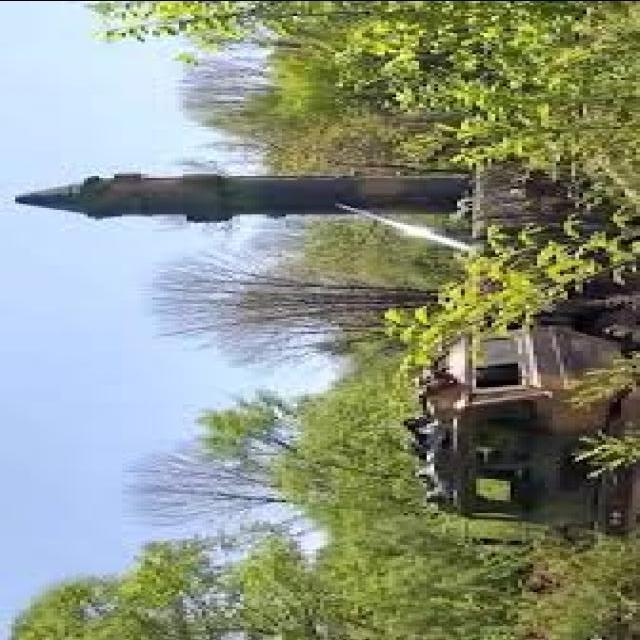missile: (10, 165, 471, 227)
